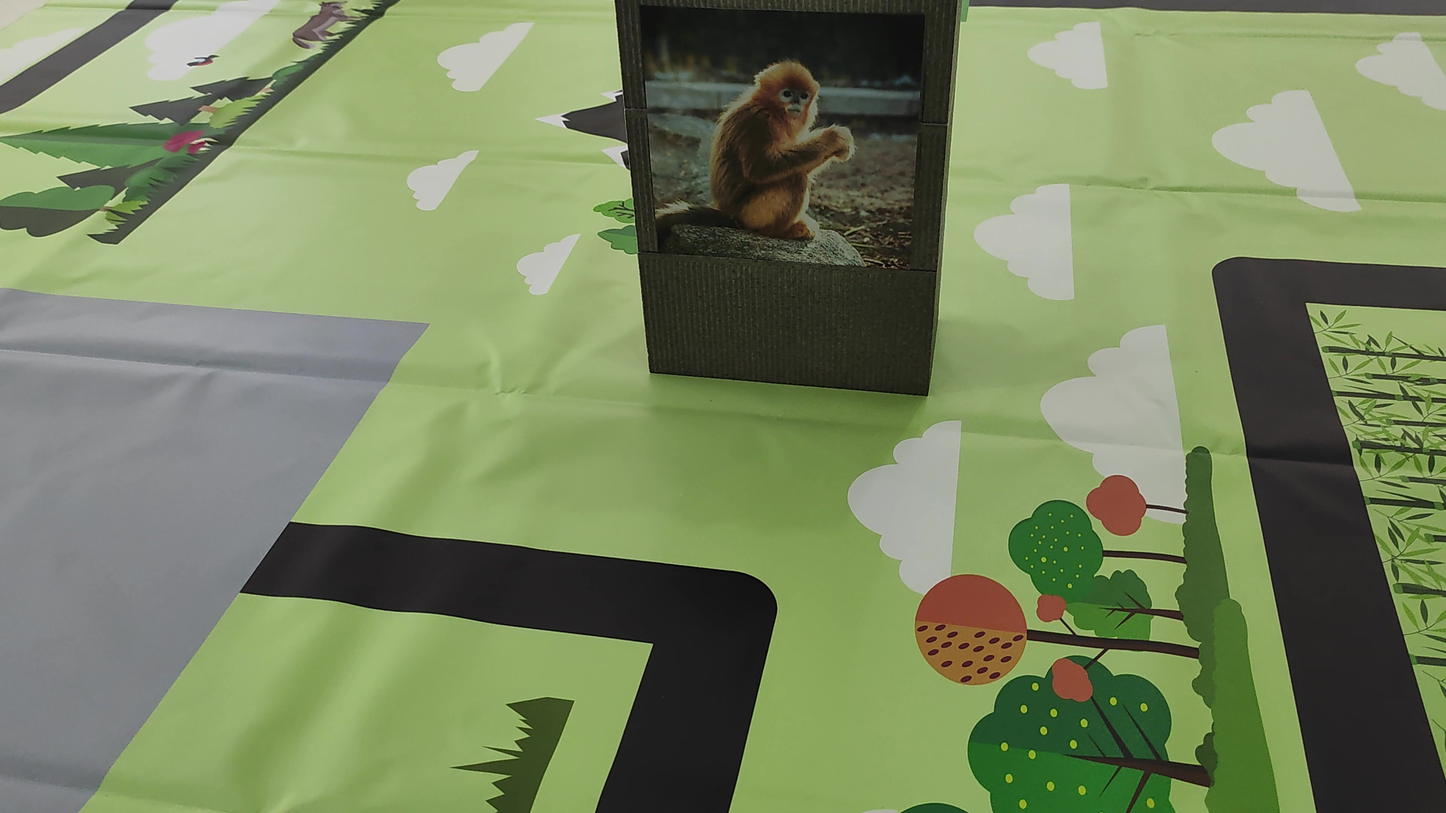monkey: (687, 36, 883, 250)
